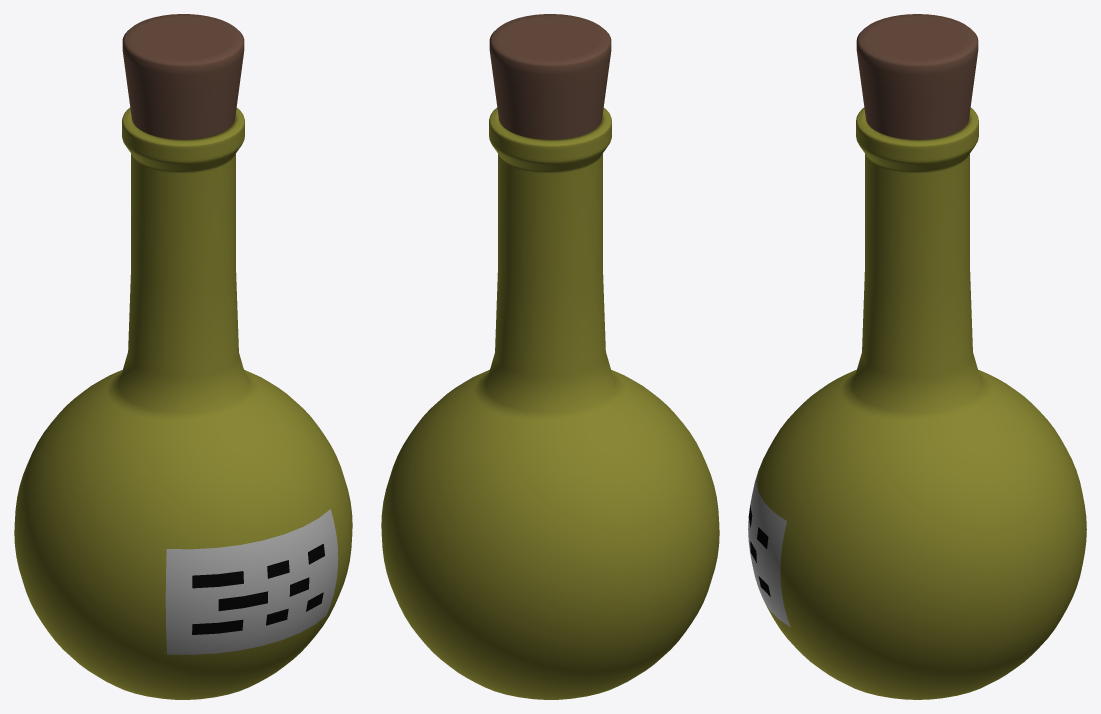
Rendered from Oil.fbx.
The picture shows the model from 3 angles, left to right: view 1: azimuth 30°, elevation 25°; view 2: azimuth 150°, elevation 25°; view 3: azimuth 270°, elevation 25°; orthographic projection.
Visible parts, largest first — view 1: pCylinder2; view 2: pCylinder2; view 3: pCylinder2.
Boxes of the visible parts, x1,y1,x2,y2 form: pCylinder2: (14,14,352,699); pCylinder2: (381,14,719,699); pCylinder2: (748,14,1086,699).
Size of the model in its own units: 29.54 by 60.69 by 29.54.
